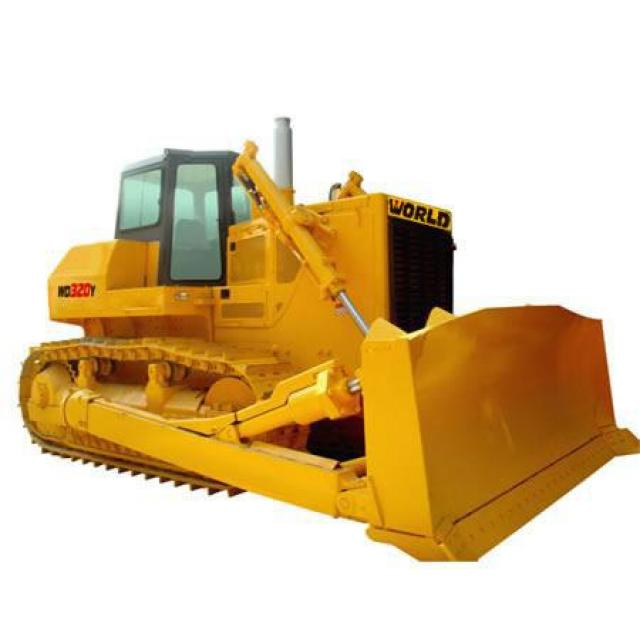Bulldozer: (22, 109, 638, 562)
